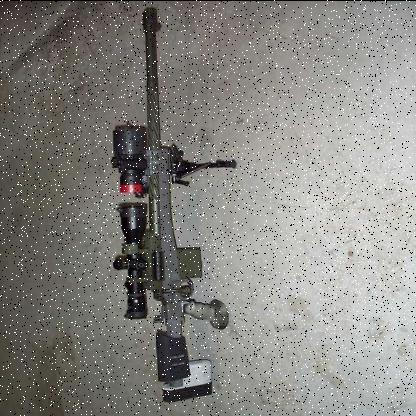rifle: (88, 2, 265, 399)
